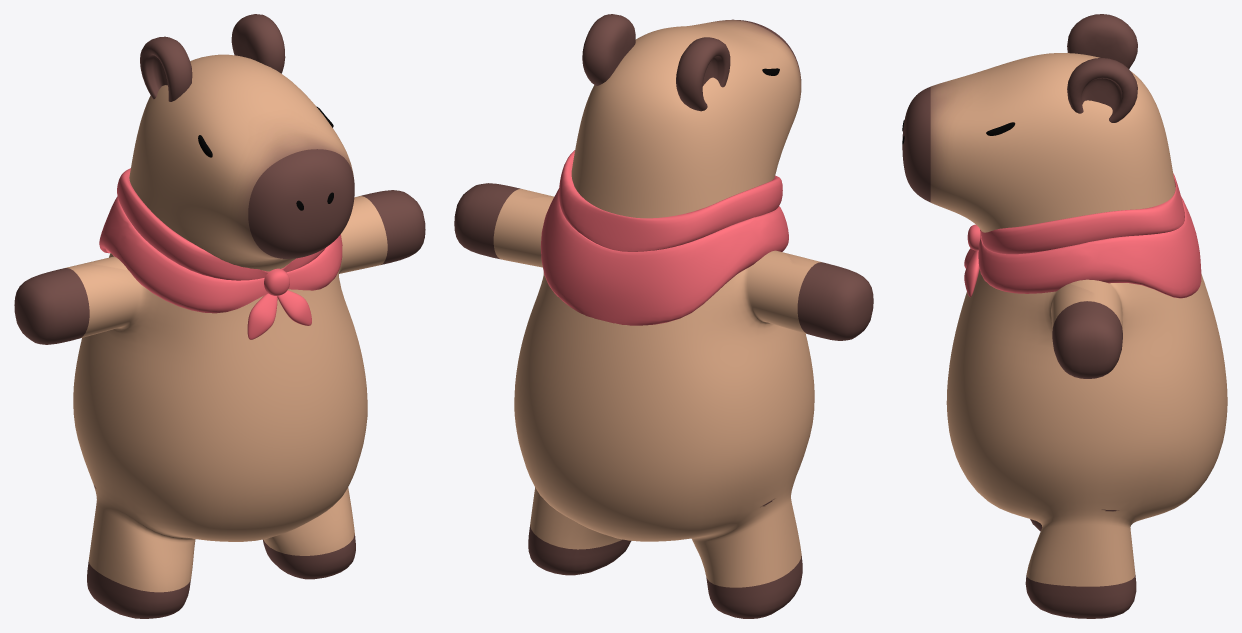
The model's file is CapivaraUnity.fbx.
3 views of the same model, side by side, from view 1: azimuth 30°, elevation 25°; view 2: azimuth 150°, elevation 25°; view 3: azimuth 270°, elevation 25° (orthographic). The views are drawn at different scales.
Parts seen in each view (by area): view 1: Corpo, Cube.002, Orelhas; view 2: Corpo, Cube.002, Orelhas; view 3: Corpo, Cube.002, Orelhas.
Part boxes in pixels (box(x1,y1,x2,y2)): Corpo: box(14, 54, 425, 618); Cube.002: box(99, 168, 342, 339); Orelhas: box(140, 14, 285, 101); Corpo: box(454, 19, 873, 618); Cube.002: box(540, 150, 788, 325); Orelhas: box(582, 14, 730, 111); Corpo: box(902, 53, 1227, 618); Cube.002: box(964, 173, 1201, 298); Orelhas: box(1067, 14, 1137, 122).
Size of the model in its own units: 140 by 187 by 103.
Materials: 4 (1 with a texture image).
